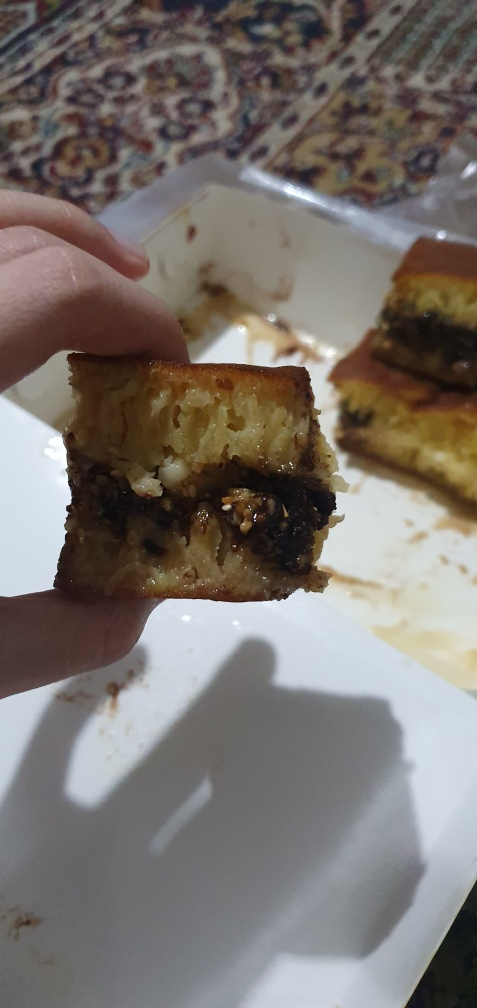martabak manis: (59, 344, 319, 620)
